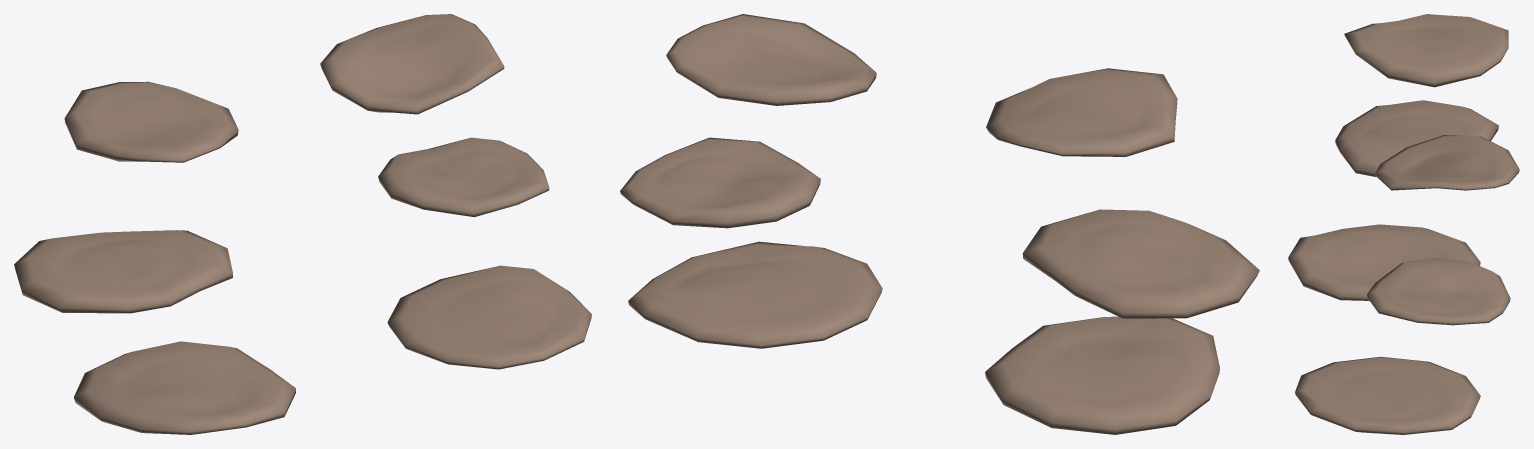
Rendered from Mushroom Flats A Low.fbx.
3 views of the same model, side by side, from view 1: azimuth 30°, elevation 25°; view 2: azimuth 150°, elevation 25°; view 3: azimuth 270°, elevation 25° (orthographic). The views are drawn at different scales.
Visible parts, largest first — view 1: Sphere.102, Sphere.101, Sphere.104, Sphere.105, Sphere.106, Sphere.103; view 2: Sphere.101, Sphere.102, Sphere.104, Sphere.105, Sphere.106, Sphere.103; view 3: Sphere.102, Sphere.106, Sphere.101, Sphere.103, Sphere.104, Sphere.105.
Part boxes in pixels (x1,y1,x2,y2): Sphere.102: [387, 265, 591, 369]; Sphere.101: [74, 341, 295, 434]; Sphere.104: [14, 230, 232, 313]; Sphere.105: [320, 14, 504, 114]; Sphere.106: [64, 81, 238, 162]; Sphere.103: [378, 137, 549, 217]; Sphere.101: [985, 316, 1219, 434]; Sphere.102: [628, 241, 882, 348]; Sphere.104: [1022, 209, 1259, 318]; Sphere.105: [666, 14, 876, 105]; Sphere.106: [986, 68, 1177, 156]; Sphere.103: [620, 137, 820, 228]; Sphere.102: [1295, 356, 1480, 434]; Sphere.106: [1344, 14, 1508, 87]; Sphere.101: [1288, 224, 1480, 300]; Sphere.103: [1367, 258, 1510, 325]; Sphere.104: [1335, 100, 1498, 177]; Sphere.105: [1375, 135, 1519, 190].
Size of the model in its own units: 1776 by 864 by 776.
